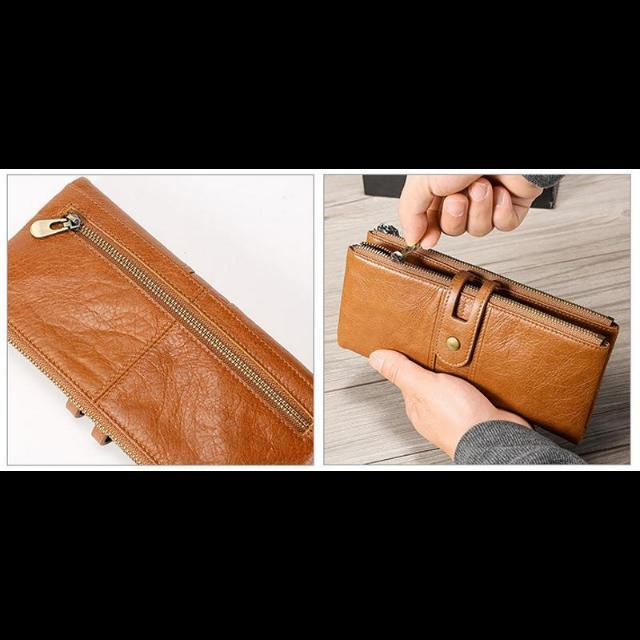wallet: (4, 174, 312, 468), (335, 220, 617, 452)
